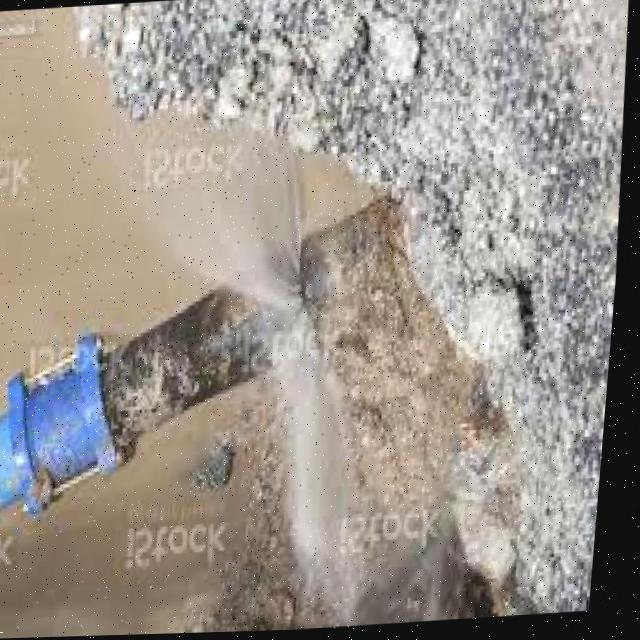corrosion: (176, 231, 319, 419)
